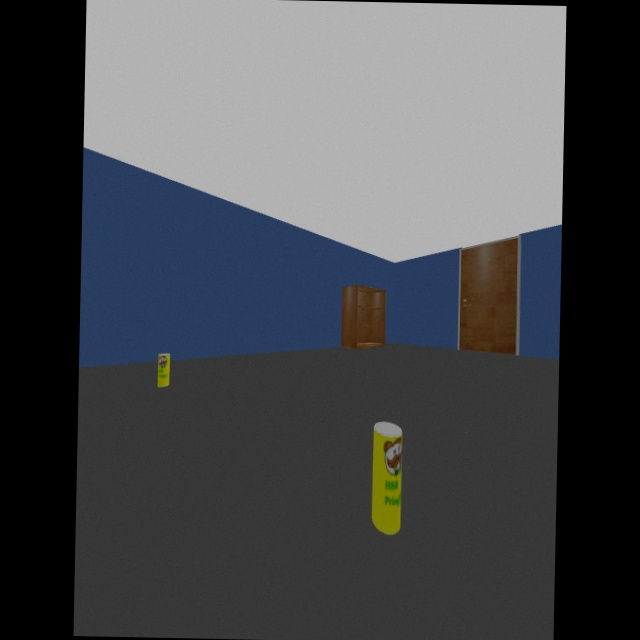chipsdose_gelb: (371, 421, 402, 537), (157, 353, 170, 388)
